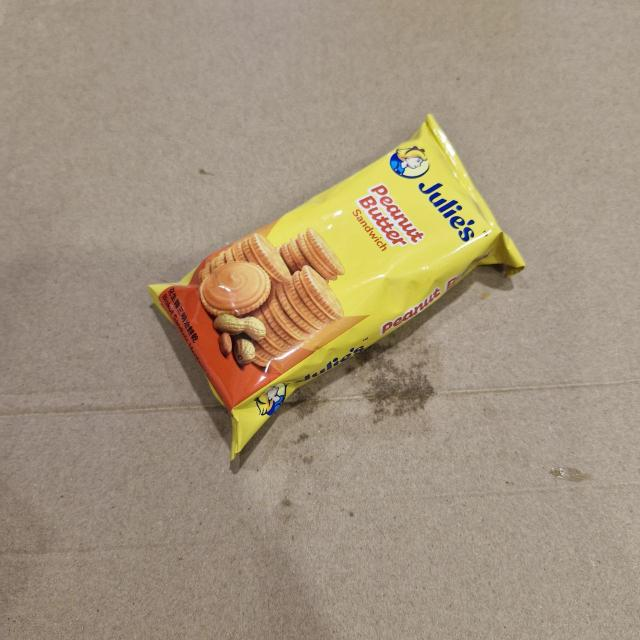plastic: (142, 112, 527, 475)
